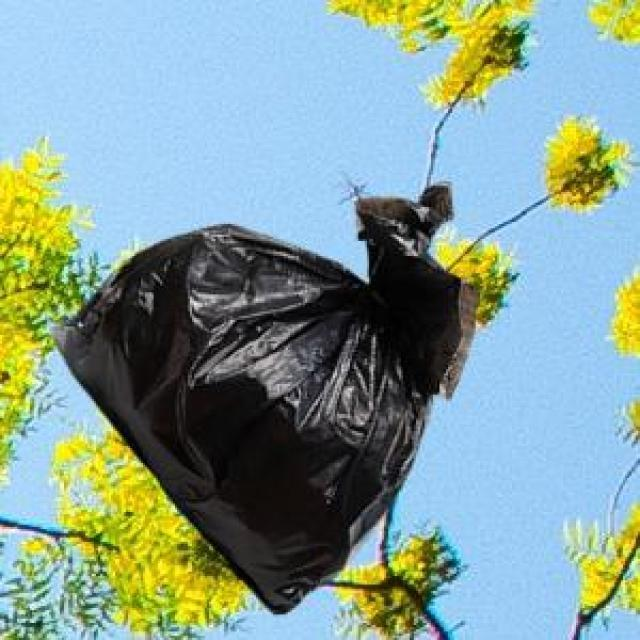Vinyl: (55, 184, 475, 613)
